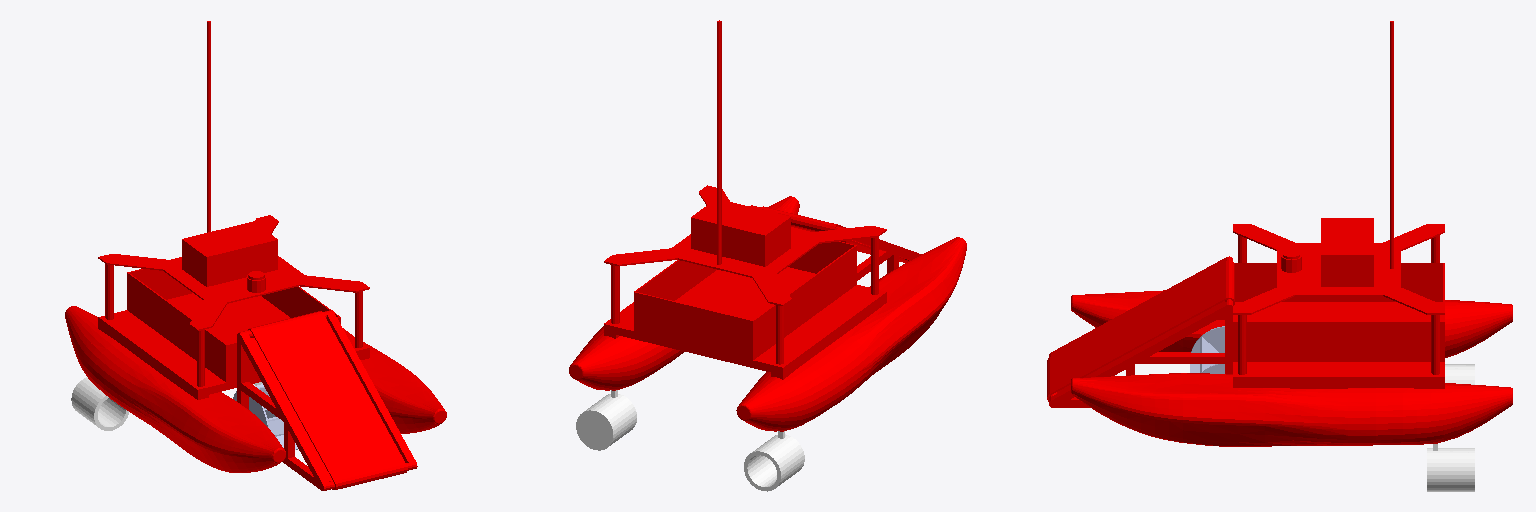
URDF robot description (catamaran):
<?xml version="1.0" encoding="utf-8"?>
<!-- This URDF was automatically created by SolidWorks to URDF Exporter! Originally created by [author] ([email redacted]) 
     Commit Version: 1.6.0-4-g7f85cfe  Build Version: 1.6.7995.38578
     For more information, please see http://wiki.ros.org/sw_urdf_exporter -->
<robot
  name="catamaran">
  <link name="base_footprint"/>
  <joint name="footprint_to_base_link" type="fixed">
    <parent link="base_footprint"/>
    <child link="base_link"/>
    <origin xyz="0 0 0" rpy="0 0 0"/>
  </joint>
  <link
    name="base_link">
    <inertial>
      <origin
        xyz="-3.8439E-06 -0.03234 0.32048"
        rpy="0 0 0" />
      <mass
        value="682.95" />
      <inertia
        ixx="221.38"
        ixy="0.00069787"
        ixz="0.0018539"
        iyy="229.43"
        iyz="-3.3962"
        izz="22.436" />
    </inertial>
    <visual>
      <origin
        xyz="0 0 0"
        rpy="0 0 0" />
      <geometry>
        <mesh
          filename="package://catamaran/meshes/base_link.STL" />
      </geometry>
      <material name="">
        <color rgba="1 0 0 1" /> <!-- Red color -->
      </material>
    </visual>
    <collision>
      <origin
        xyz="0 0 0"
        rpy="0 0 0" />
      <geometry>
        <mesh
          filename="package://catamaran/meshes/base_link.STL" />
      </geometry>
    </collision>
  </link>
  <link
    name="waterwheel">
    <inertial>
      <origin
        xyz="-8.7255E-17 2.7756E-16 -5.5511E-16"
        rpy="0 0 0" />
      <mass
        value="11.524" />
      <inertia
        ixx="0.22689"
        ixy="8.0621E-18"
        ixz="1.7328E-17"
        iyy="0.46299"
        iyz="-9.9067E-16"
        izz="0.46299" />
    </inertial>
    <visual>
      <origin
        xyz="0 0 0"
        rpy="0 0 0" />
      <geometry>
        <mesh
          filename="package://catamaran/meshes/waterwheel.STL" />
      </geometry>
      <material
        name="">
        <color
          rgba="0.79216 0.81961 0.93333 1" />
      </material>
    </visual>
    <!-- <collision>
      <origin
        xyz="0 0 0"
        rpy="0 0 0" />
      <geometry>
        <mesh
          filename="package://catamaran/meshes/waterwheel.STL" />
      </geometry>
    </collision> -->
  </link>
  <joint
    name="base_to_waterwheel"
    type="fixed">
    <origin
      xyz="0 -0.68537 -0.15538"
      rpy="1.5708 0 0" />
    <parent
      link="base_link" />
    <child
      link="waterwheel" />
    <axis
      xyz="1 0 0" />
  </joint>
  <link
    name="l_thruster">
    <inertial>
      <origin
        xyz="0 0.0012259 0.13677"
        rpy="0 0 0" />
      <mass
        value="4.9984" />
      <inertia
        ixx="0.064215"
        ixy="2.3399E-18"
        ixz="5.7008E-20"
        iyy="0.063315"
        iyz="0.00053171"
        izz="0.064415" />
    </inertial>
    <visual>
      <origin
        xyz="0 0 0"
        rpy="0 0 0" />
      <geometry>
        <mesh
          filename="package://catamaran/meshes/l_thruster.STL" />
      </geometry>
      <material
        name="">
        <color
          rgba="1 1 1 1" />
      </material>
    </visual>
    <!-- <collision>
      <origin
        xyz="0 0 0"
        rpy="0 0 0" />
      <geometry>
        <mesh
          filename="package://catamaran/meshes/l_thruster.STL" />
      </geometry>
    </collision> -->
  </link>
  <joint
    name="base_to_l_thruster"
    type="fixed">
    <origin
      xyz="0.55834 0.43963 -0.45538"
      rpy="1.5708 0 3.1416" />
    <parent
      link="base_link" />
    <child
      link="l_thruster" />
    <axis
      xyz="0 0 0" />
  </joint>
  <link
    name="r_thruster">
    <inertial>
      <origin
        xyz="0 0 0"
        rpy="0 0 0" />
      <mass
        value="0" />
      <inertia
        ixx="0"
        ixy="0"
        ixz="0"
        iyy="0"
        iyz="0"
        izz="0" />
    </inertial>
    <visual>
      <origin
        xyz="0 0 0"
        rpy="0 0 0" />
      <geometry>
        <mesh
          filename="package://catamaran/meshes/r_thruster.STL" />
      </geometry>
      <material
        name="">
        <color
          rgba="1 1 1 1" />
      </material>
    </visual>
    <!-- <collision>
      <origin
        xyz="0 0 0"
        rpy="0 0 0" />
      <geometry>
        <mesh
          filename="package://catamaran/meshes/r_thruster.STL" />
      </geometry>
    </collision> -->
  </link>
  <joint
    name="base_to_r_thruster"
    type="fixed">
    <origin
      xyz="-0.56166 0.43963 -0.45538"
      rpy="1.5708 0 3.1416" />
    <parent
      link="base_link" />
    <child
      link="r_thruster" />
    <axis
      xyz="0 0 0" />
  </joint>
  <!-- 2D LiDAR -->
  <material name="red">
    <color rgba="1 0 0 1"/>
  </material>
  <joint name="laser_joint" type="fixed">
      <parent link="base_link"/>
      <child link="laser_frame"/>
      <origin xyz="0 -0.33 0.62" rpy="0 0 -1.570796"/>
  </joint>
  <link name="laser_frame">
    <visual>
      <geometry>
        <cylinder radius="0.05" length="0.04"/>
      </geometry>
      <material name="red"/>
    </visual>
    <collision>
      <geometry>
          <cylinder radius="0.05" length="0.04"/>
      </geometry>
    </collision>
    <inertial>
      <origin
        xyz="0 0 0"
        rpy="0 0 0" />
      <mass
        value="0" />
      <inertia
        ixx="0"
        ixy="0"
        ixz="0"
        iyy="0"
        iyz="0"
        izz="0" />
    </inertial>
  </link>

  <gazebo reference="laser_frame">
    <material>Gazebo/Red</material>
    <sensor name="laser" type="ray">
      <visualize>true</visualize>
      <update_rate>10</update_rate>
      <ray>
        <scan>
          <horizontal>
            <samples>360</samples>
            <min_angle>-3.14</min_angle>
            <max_angle>3.14</max_angle>
          </horizontal>
        </scan>
        <range>
          <min>0.3</min>
          <max>12</max>
        </range>
      </ray>
      <plugin name="laser_controller" filename="libgazebo_ros_ray_sensor.so">
        <ros>
          <argument>~/out:=scan</argument>
        </ros>
        <output_type>sensor_msgs/LaserScan</output_type>
        <frame_name>laser_frame</frame_name>
      </plugin>
    </sensor>
  </gazebo>
</robot>

--- Facts derived from the render (not from the file) ---
The picture shows the robot from 3 angles, left to right: view 1: azimuth 30°, elevation 25°; view 2: azimuth 150°, elevation 25°; view 3: azimuth 270°, elevation 25°; orthographic projection.
Model catamaran with 6 links and 5 joints (5 fixed), rooted at base_footprint, posed every joint at zero.
Links seen in each view (by area): view 1: base_link, r_thruster, waterwheel; view 2: base_link, l_thruster, r_thruster; view 3: base_link, l_thruster, waterwheel, r_thruster.
Boxes of the visible links, x1=… form: base_link: x1=65, y1=21, x2=446, y2=490; r_thruster: x1=71, y1=377, x2=128, y2=430; waterwheel: x1=233, y1=384, x2=297, y2=449; base_link: x1=569, y1=20, x2=966, y2=431; l_thruster: x1=576, y1=390, x2=636, y2=450; r_thruster: x1=744, y1=431, x2=804, y2=491; base_link: x1=1047, y1=21, x2=1512, y2=446; l_thruster: x1=1427, y1=444, x2=1474, y2=491; waterwheel: x1=1190, y1=326, x2=1224, y2=373; r_thruster: x1=1445, y1=364, x2=1474, y2=384.
Size in the robot's own frame: 1.57 by 2.65 by 2.67 metres.
Meshes: 4 distinct files referenced, 4 mesh visuals loaded (4 binary STL).
